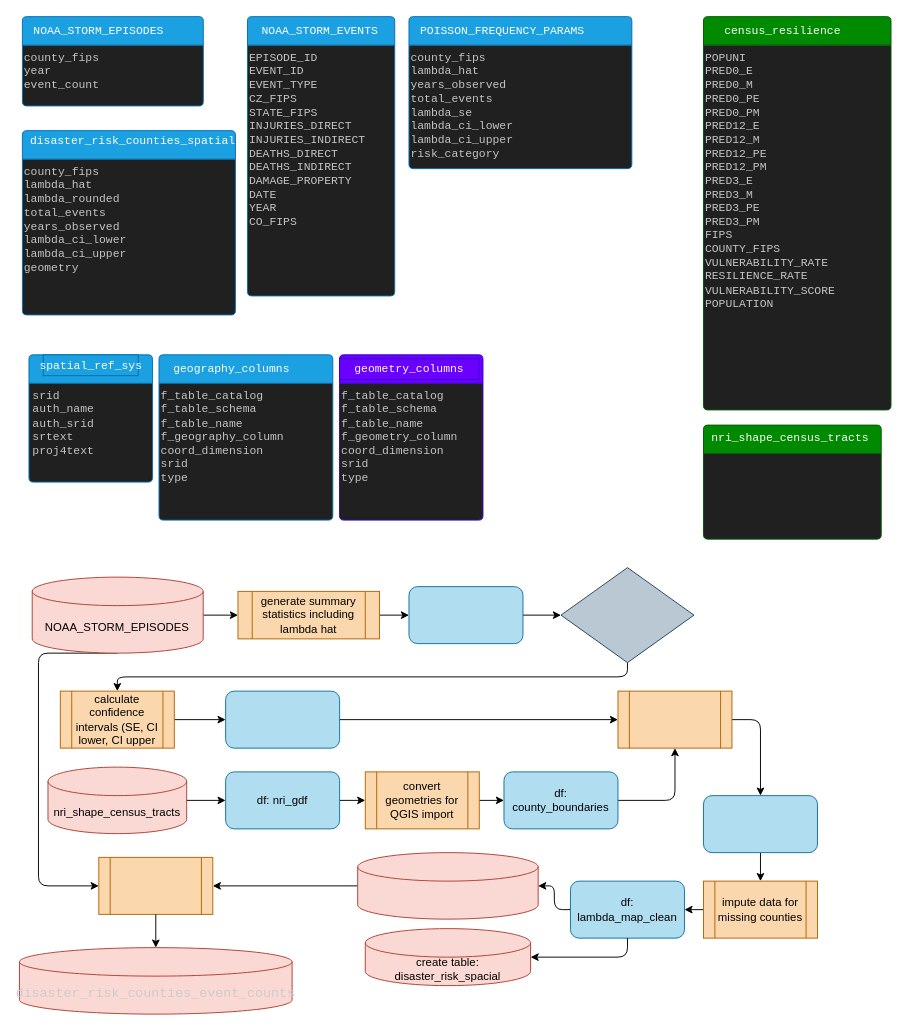
This 908x1031 diagram has some shape labels left out. Each missing label, with the centre of its shape:
"aggregate and merge" goes at (x=674, y=719).
"create table: disaster_risk_counties_spacial" goes at (x=447, y=885).
"df: county_lambdas" goes at (x=465, y=615).
"df: lambda_map_data" goes at (x=760, y=824).
"df: poisson_risk_params" goes at (x=282, y=719).
"Left join and count" goes at (x=155, y=885).
"validate with sample counties" goes at (x=627, y=615).
